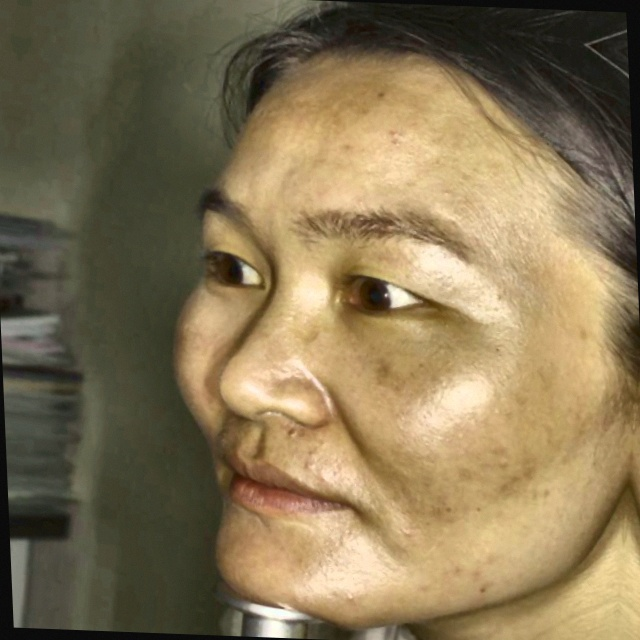comedone: (366, 114, 407, 157), (466, 565, 492, 593)
